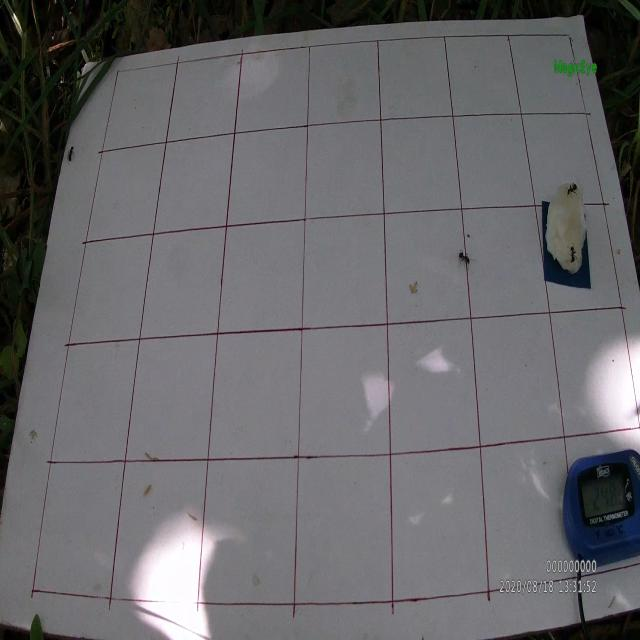Ant: (457, 248, 476, 271), (563, 181, 579, 199), (566, 242, 577, 264), (67, 142, 76, 164)
